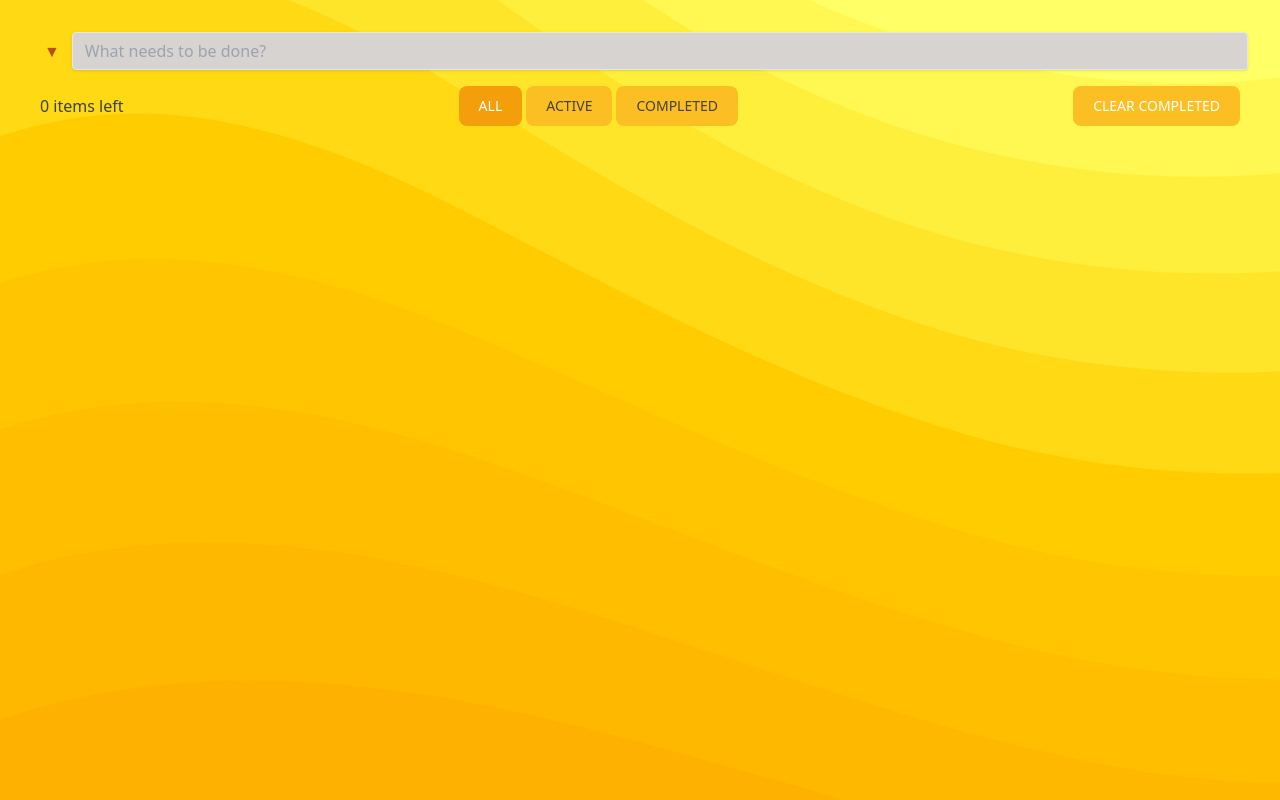
Test case: Main › click on clear completed button
Type "Test todo" into the field with placeholder "What needs to be done?" at (660,51), box [72,32,1248,70]
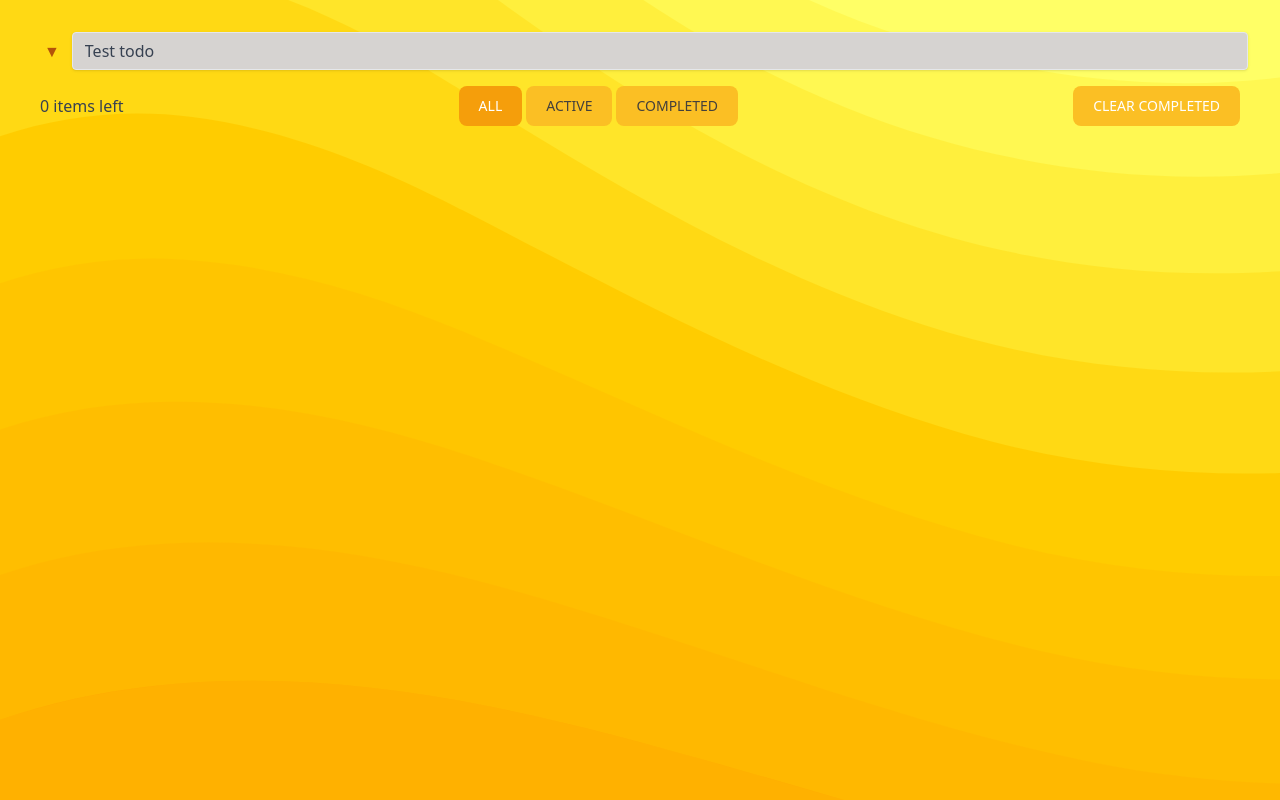
Press Enter in the field with placeholder "What needs to be done?", box [72,32,1248,70]
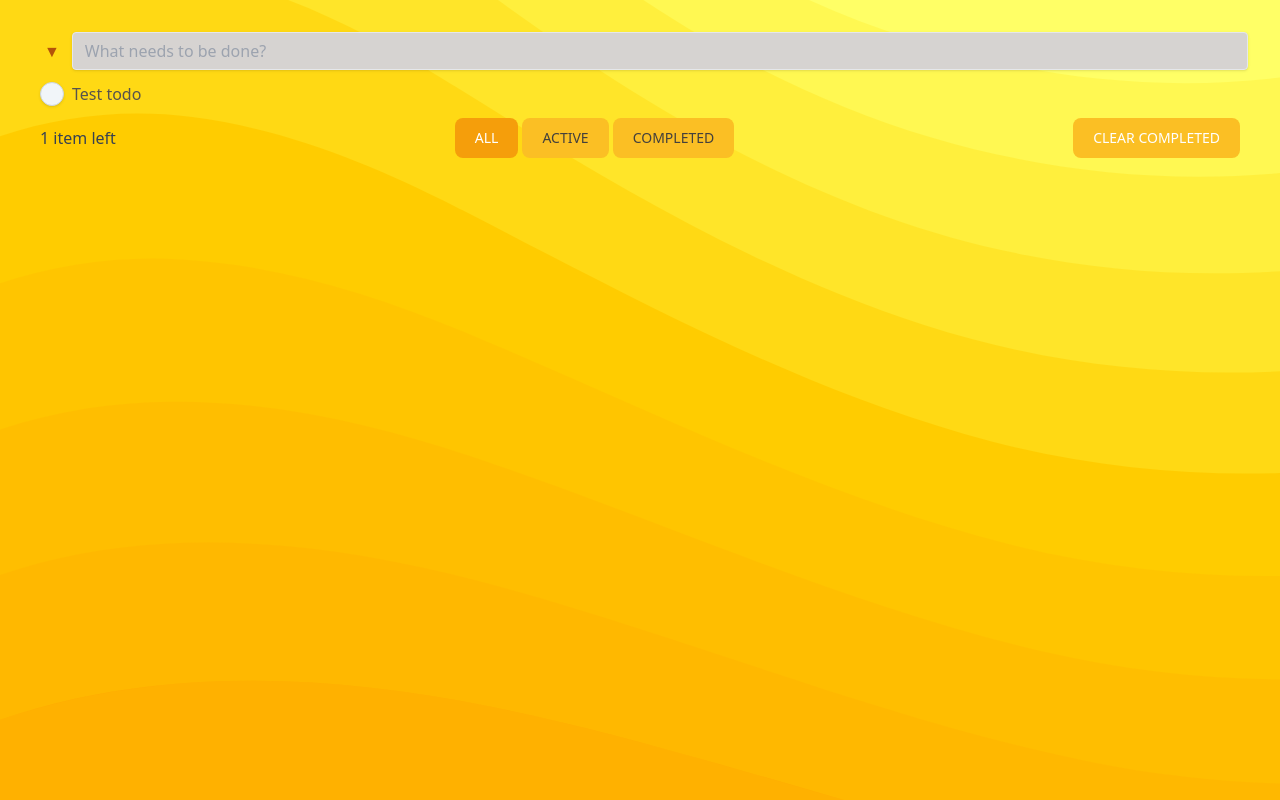
Click the checkbox at (52,94), box [40,82,64,106]
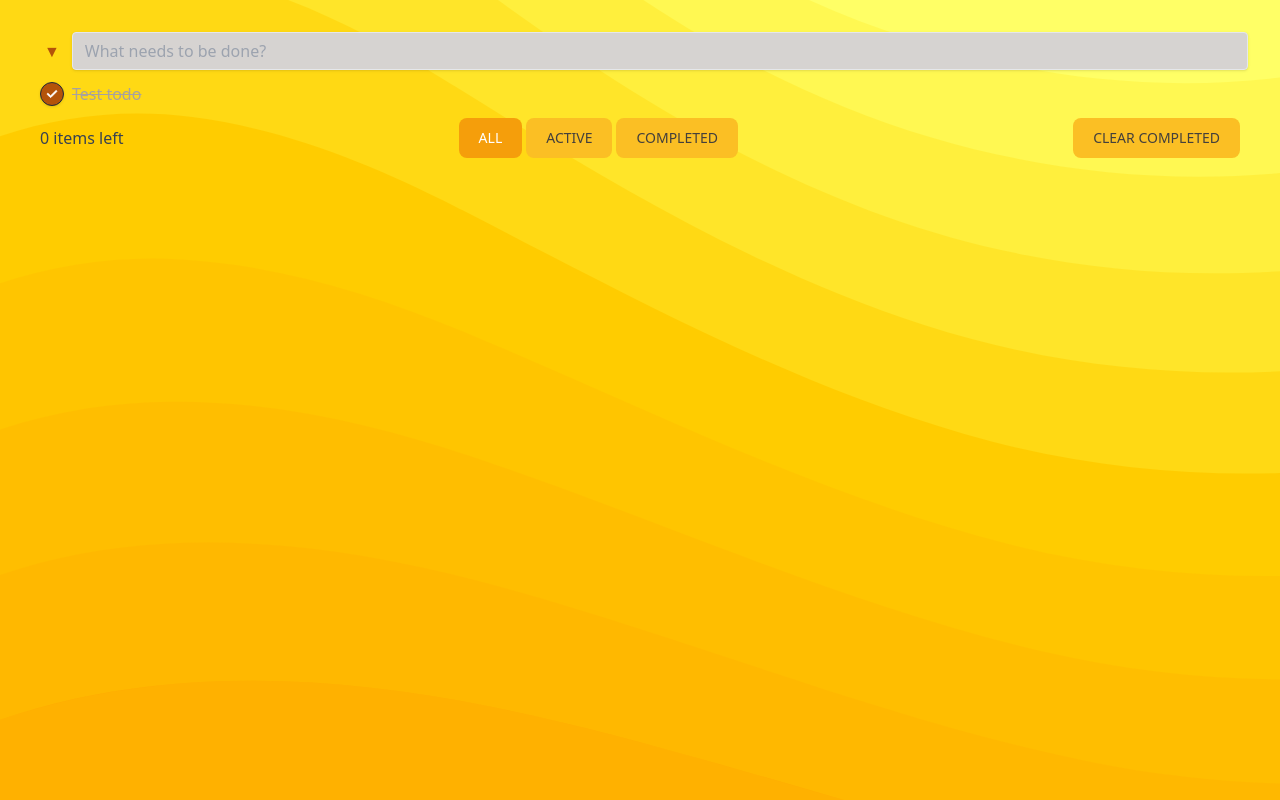
Click the button "Clear completed" at (1156,138), box [1073,118,1240,158]
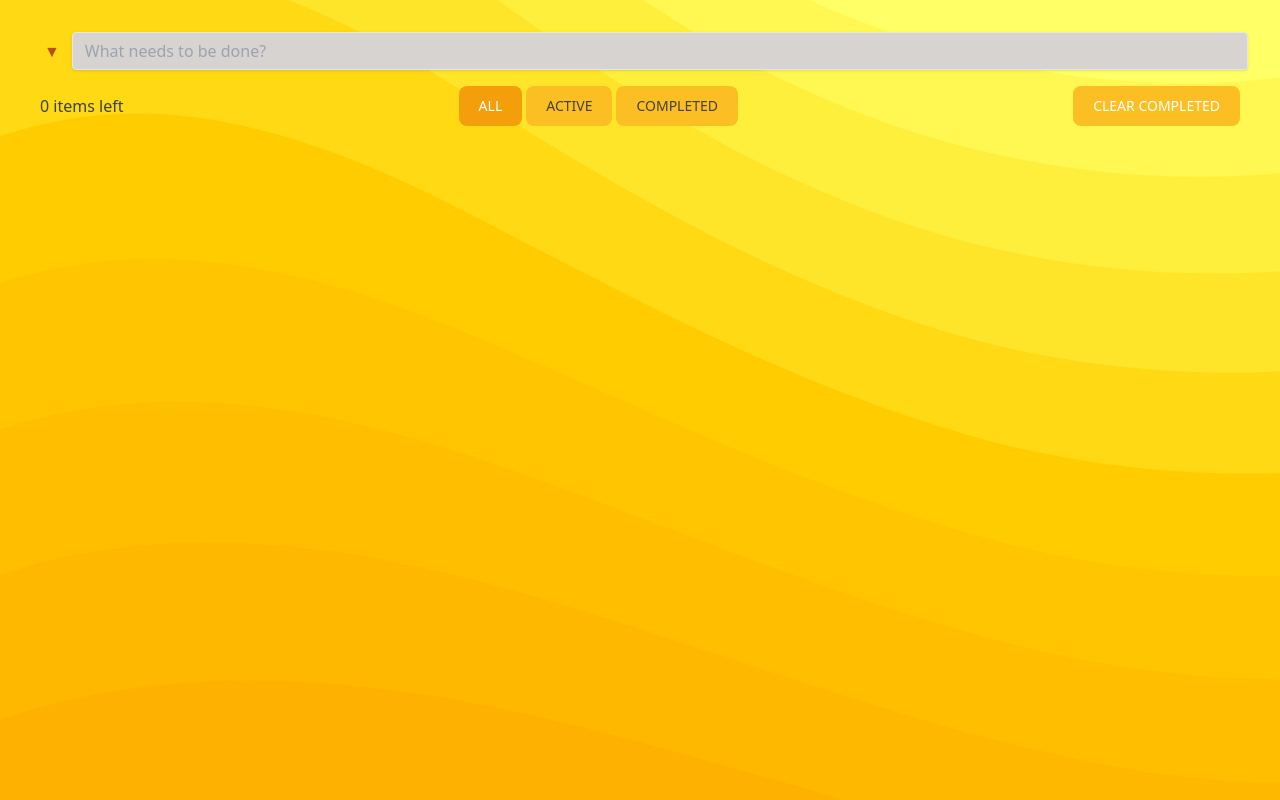
Expected: no list items are shown
